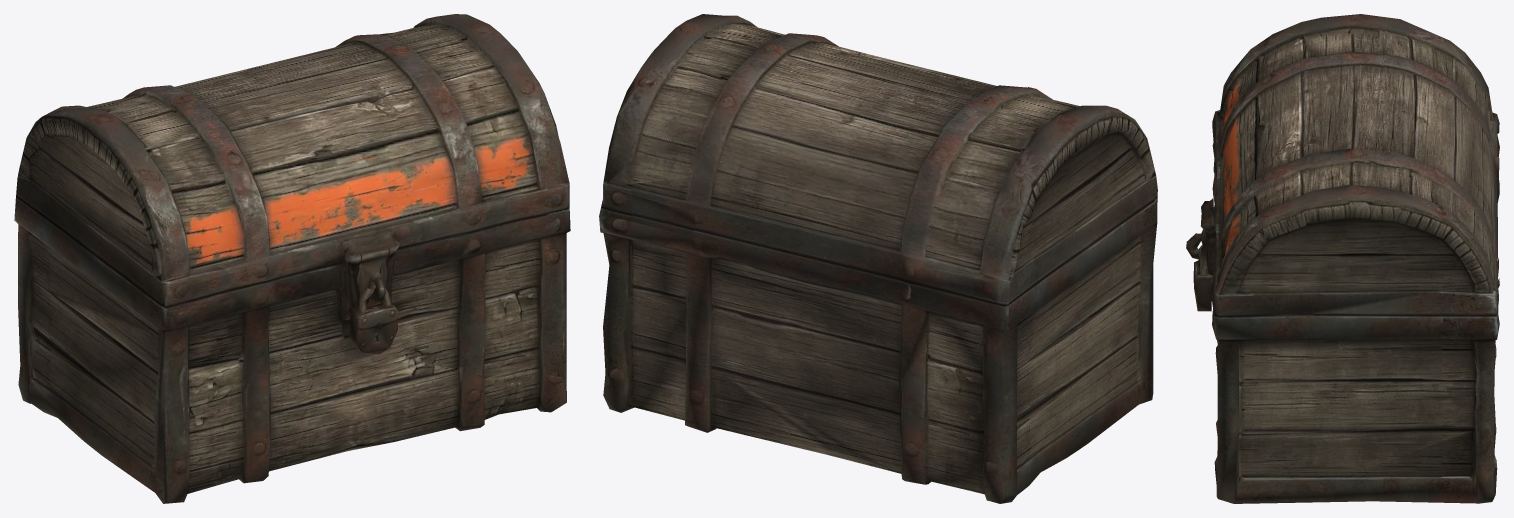
The model's file is chest.glb.
3 views of the same model, side by side, from view 1: azimuth 30°, elevation 25°; view 2: azimuth 150°, elevation 25°; view 3: azimuth 270°, elevation 25° (orthographic). The views are drawn at different scales.
Parts seen in each view (by area): view 1: Mesh_0; view 2: Mesh_0; view 3: Mesh_0.
Part boxes in pixels (bbox=[...]): Mesh_0: bbox=[14, 14, 570, 503]; Mesh_0: bbox=[599, 14, 1157, 503]; Mesh_0: bbox=[1186, 14, 1499, 503].
Bounding box in the file's own units: 1.9 × 1.47 × 1.35.
Materials: 1 (1 with a texture image).
